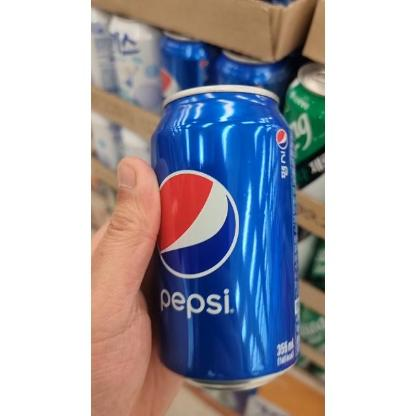Can: (150, 83, 300, 390)
